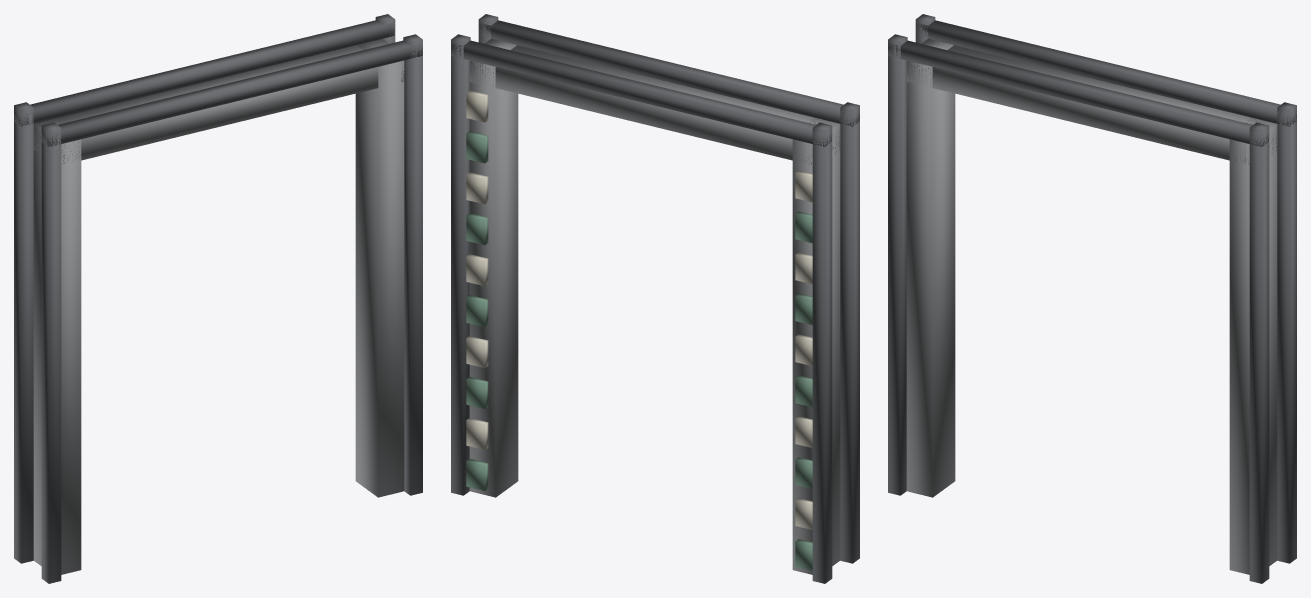
Rendered from doorway_tile_return_w182_h240_d24.glb.
The picture shows the model from 3 angles, left to right: view 1: azimuth 30°, elevation 25°; view 2: azimuth 150°, elevation 25°; view 3: azimuth 330°, elevation 25°; orthographic projection.
Visible parts, largest first — view 1: world; view 2: world; view 3: world.
Part boxes in pixels (<box>): world: <box>14,14,422,583</box>; world: <box>451,14,859,583</box>; world: <box>888,14,1296,583</box>.
Bounding box in the file's own units: 2.29 × 2.66 × 0.3706.
